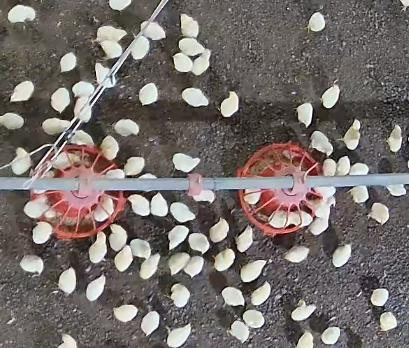chick: (87, 229, 108, 265), (238, 259, 269, 282), (93, 24, 129, 43), (23, 192, 49, 218), (217, 91, 242, 118), (212, 246, 236, 274), (165, 324, 194, 347), (98, 37, 124, 62), (180, 86, 209, 108), (49, 149, 79, 170), (168, 283, 192, 309), (168, 201, 196, 223), (172, 152, 201, 173), (86, 273, 106, 303), (341, 118, 361, 148), (138, 253, 161, 279), (9, 81, 36, 103), (41, 117, 73, 135), (94, 62, 116, 88), (192, 49, 214, 75), (319, 83, 341, 109), (20, 253, 46, 275), (50, 87, 71, 114), (137, 82, 160, 106), (208, 218, 231, 242), (109, 222, 128, 251), (228, 318, 250, 343), (311, 131, 333, 156), (306, 214, 331, 236), (112, 304, 138, 325), (332, 243, 353, 269), (58, 266, 76, 296), (167, 252, 190, 275), (31, 221, 55, 243), (148, 192, 169, 217), (7, 5, 36, 23), (295, 102, 315, 128), (284, 244, 311, 263), (387, 122, 404, 152), (122, 155, 144, 178), (129, 35, 150, 59), (95, 195, 113, 223), (127, 194, 148, 218), (291, 301, 316, 321), (74, 95, 91, 124), (178, 37, 205, 55), (235, 225, 253, 252), (250, 283, 271, 306), (13, 146, 30, 174), (140, 21, 165, 40), (180, 13, 199, 38), (141, 310, 160, 335), (114, 246, 132, 272), (168, 226, 189, 248), (131, 237, 152, 259), (187, 232, 208, 254), (368, 202, 389, 224), (222, 286, 245, 306), (0, 113, 25, 131), (114, 119, 139, 137), (137, 172, 158, 193), (172, 53, 194, 73), (308, 11, 328, 33), (101, 136, 121, 158), (185, 255, 205, 277), (242, 308, 264, 328), (312, 199, 336, 217), (289, 209, 313, 227), (268, 209, 290, 228), (72, 81, 96, 98), (348, 185, 368, 205), (58, 51, 77, 72), (71, 130, 95, 146), (321, 324, 340, 344), (243, 187, 263, 205), (385, 181, 406, 198), (312, 184, 337, 198), (193, 189, 217, 203), (296, 328, 314, 346), (56, 333, 77, 348), (336, 155, 351, 176), (380, 312, 397, 330), (348, 162, 368, 177), (373, 289, 389, 306), (321, 158, 337, 174), (103, 168, 124, 180)
rice: (29, 143, 125, 239), (237, 143, 325, 235)
